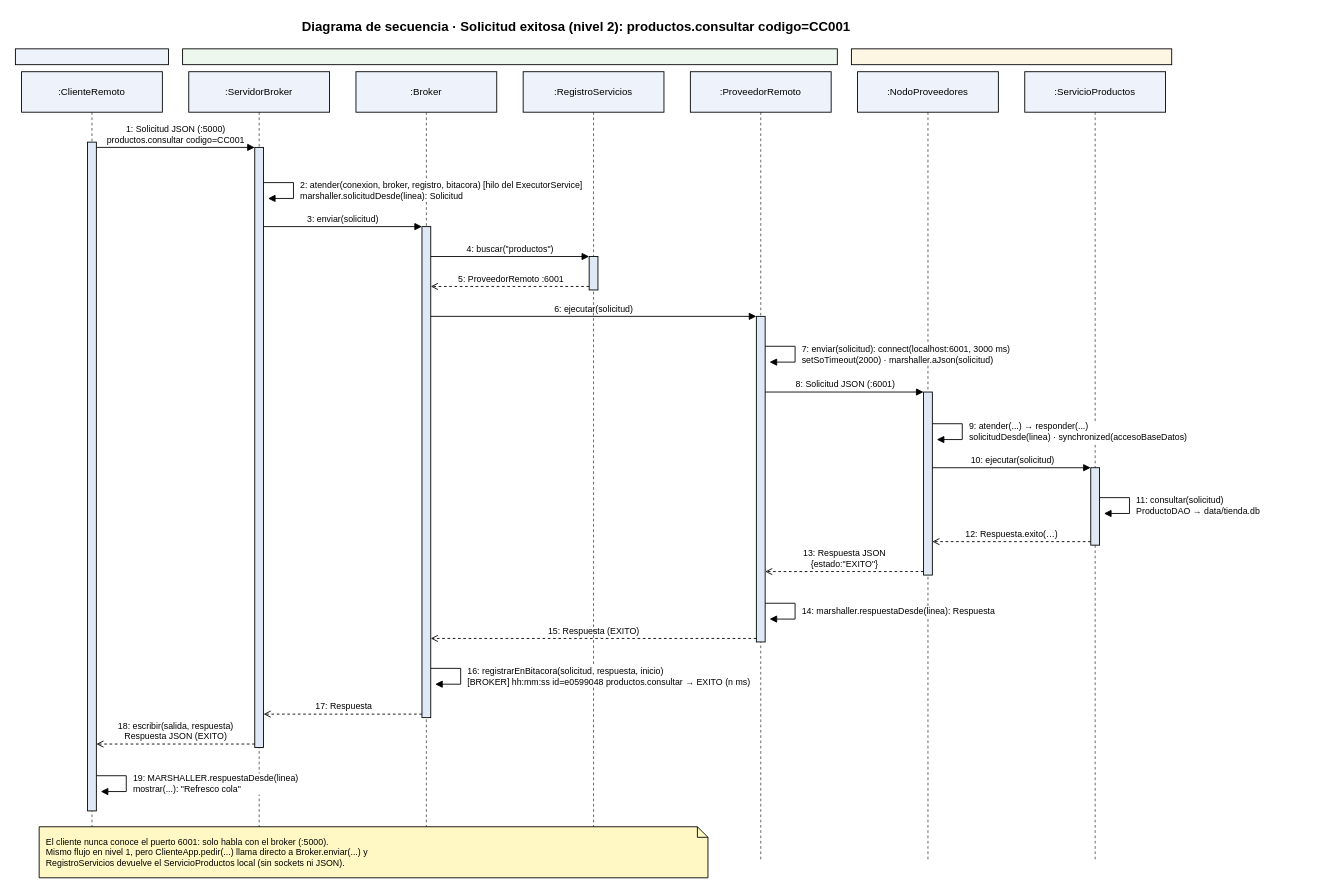
Image size: 1338x893. Some labels were removed from this diagram. The shapes that lost their labels are listed below. From the top down, each one's centre as x and y in pixels, then its label:
the point at 92,56: JVM 1 · cliente
the point at 509,56: JVM 2 · broker (puerto 5000)
the point at 1011,56: JVM 3 · NodoProveedores
